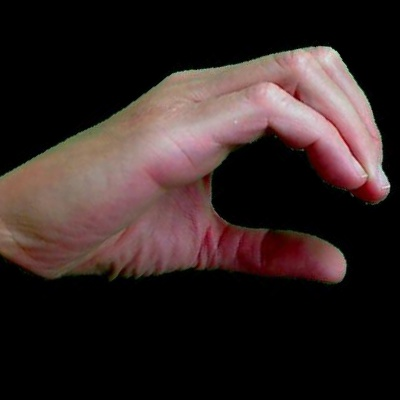c: (3, 3, 400, 366)
